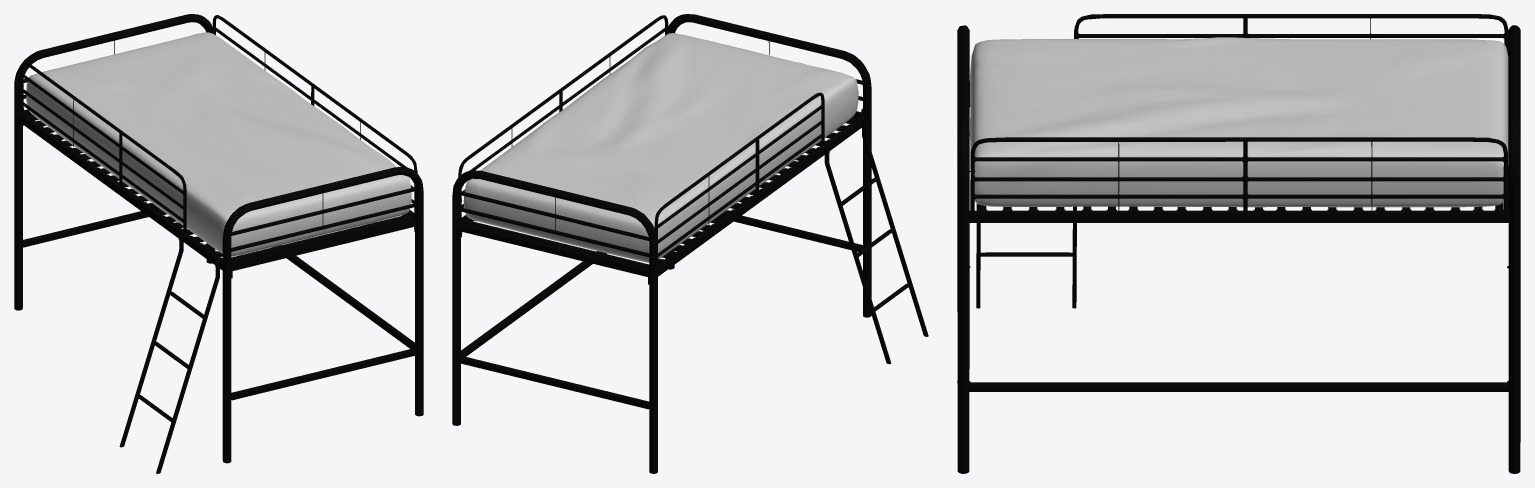
The model's file is abo-B07SQWPC7Z.glb.
The picture shows the model from 3 angles, left to right: view 1: azimuth 30°, elevation 25°; view 2: azimuth 150°, elevation 25°; view 3: azimuth 270°, elevation 25°; orthographic projection. The views are drawn at different scales.
Bounding box in the file's own units: 1.39 × 1.29 × 1.97.
Materials: 1 (1 with a texture image).
